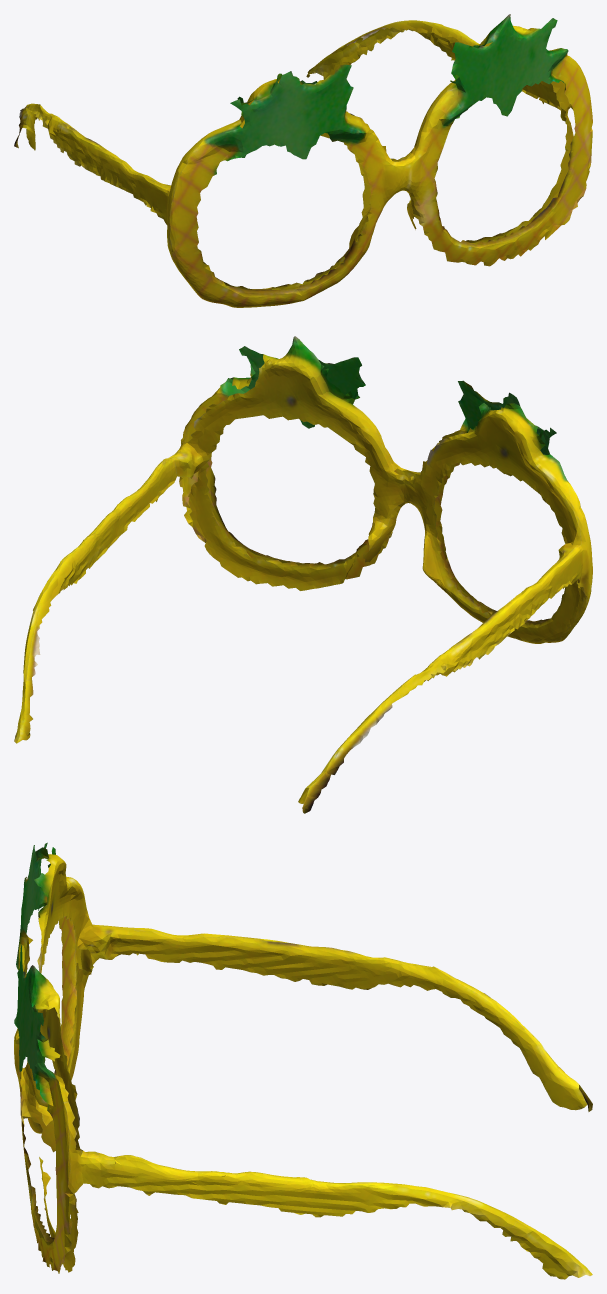
Rendered from scan_align.obj.
3 views of the same model, one above another, from view 1: azimuth 30°, elevation 25°; view 2: azimuth 150°, elevation 25°; view 3: azimuth 270°, elevation 25° (orthographic). The views are drawn at different scales.
Size of the model in its own units: 0.128 by 0.0723 by 0.1316.
1 material, 1 textured.
